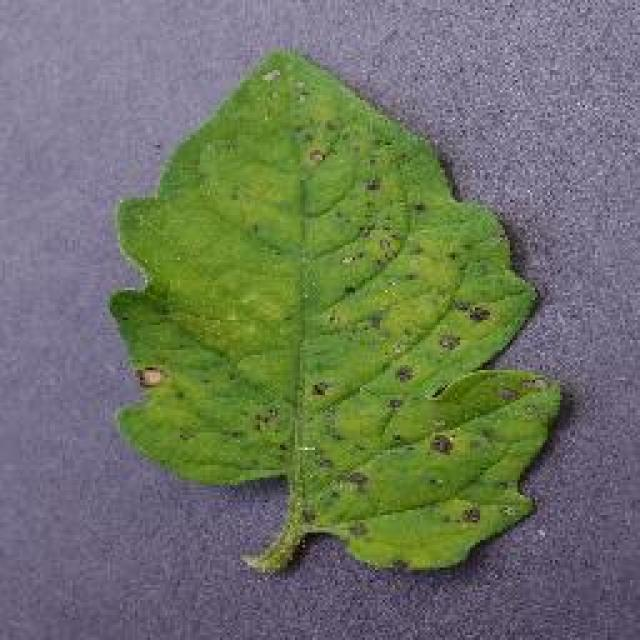Tomato target spot leaf: (106, 48, 562, 578)
